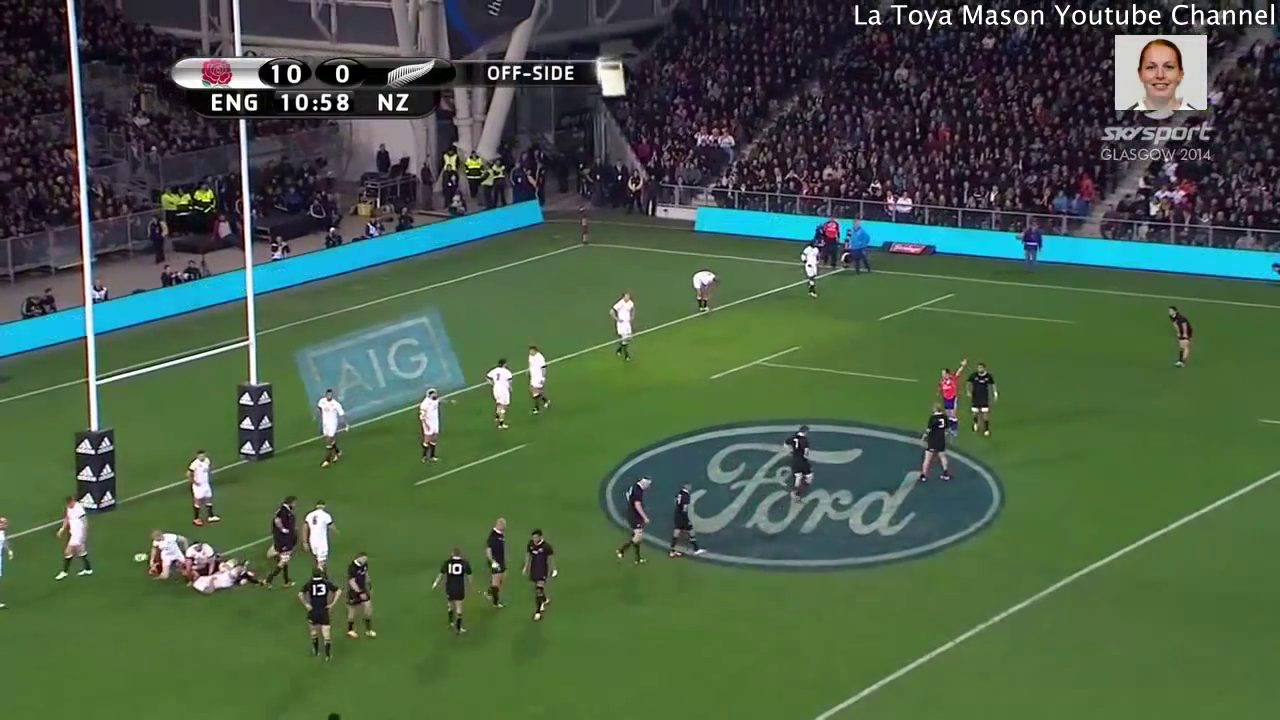player: (286, 563, 351, 669), (513, 521, 573, 633), (42, 487, 104, 592), (607, 467, 661, 575), (427, 541, 483, 643), (256, 482, 308, 589), (904, 393, 961, 485), (409, 380, 464, 471), (176, 440, 228, 532), (339, 544, 383, 652), (663, 477, 712, 568), (305, 382, 353, 473), (597, 277, 641, 368), (775, 422, 823, 505), (959, 360, 1008, 439), (477, 509, 513, 613), (922, 350, 971, 425), (1157, 298, 1203, 376), (185, 556, 269, 597), (299, 495, 340, 579), (141, 520, 193, 583), (515, 343, 554, 419), (795, 238, 830, 311), (483, 355, 515, 432), (1, 504, 21, 621), (684, 264, 722, 318), (180, 533, 225, 578)
post: (61, 128, 283, 520)
